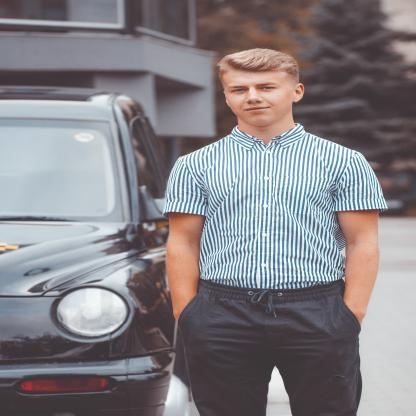Eye: (230, 88, 247, 94), (260, 86, 277, 91)
Mouth: (244, 107, 271, 112)
Nose: (245, 89, 263, 103)
